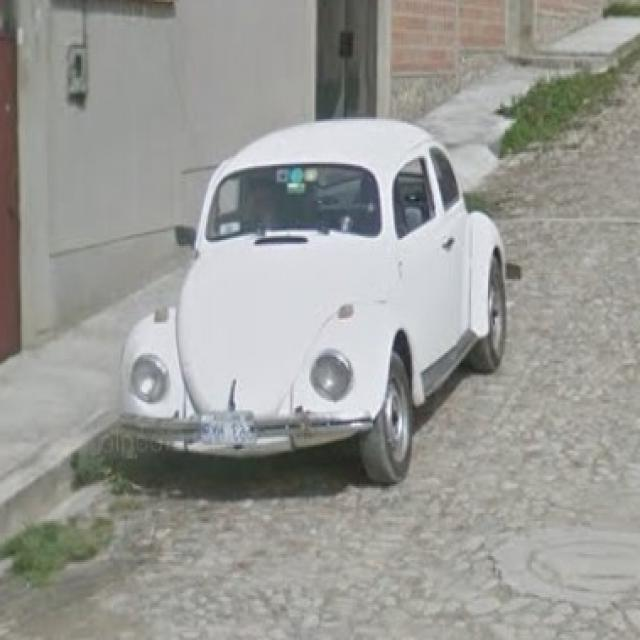car: (118, 116, 511, 485)
